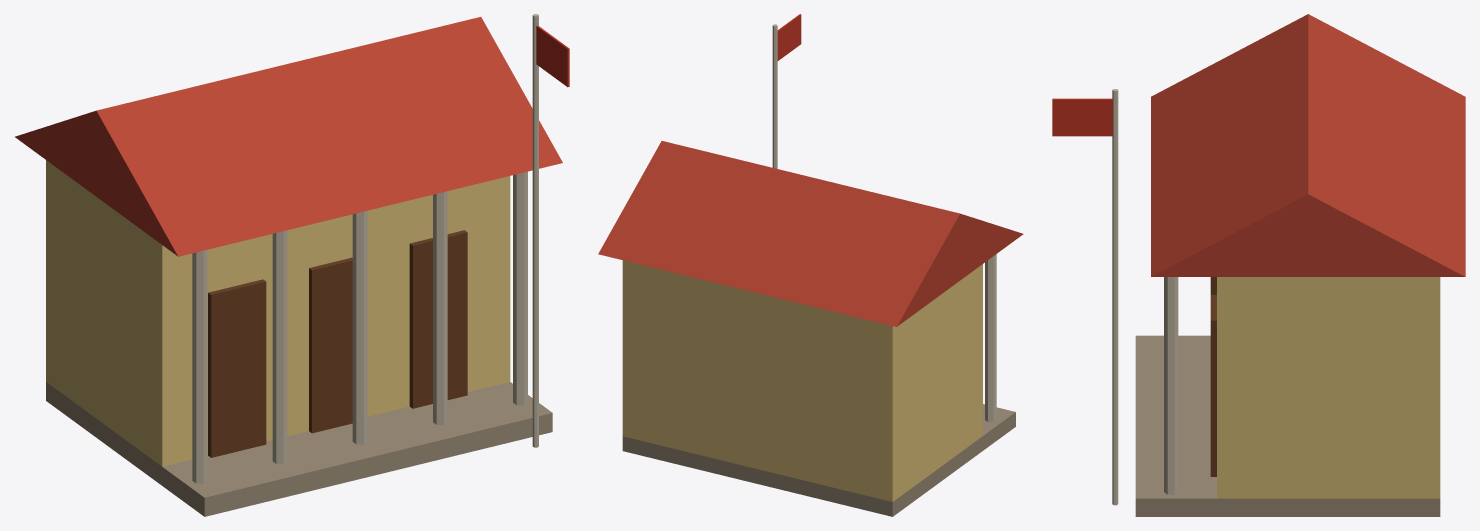
Rendered from truong-lang.glb.
3 renders of one model, left to right at view 1: azimuth 30°, elevation 25°; view 2: azimuth 150°, elevation 25°; view 3: azimuth 270°, elevation 25°, orthographic. The views are drawn at different scales.
Parts seen in each view (by area): view 1: truong-lang; view 2: truong-lang; view 3: truong-lang.
Part boxes in pixels (x1,y1,x2,y2): truong-lang: (15,14,569,516); truong-lang: (598,14,1023,516); truong-lang: (1052,14,1465,516).
Bounding box in the file's own units: 4.2 × 4.5 × 4.07.
